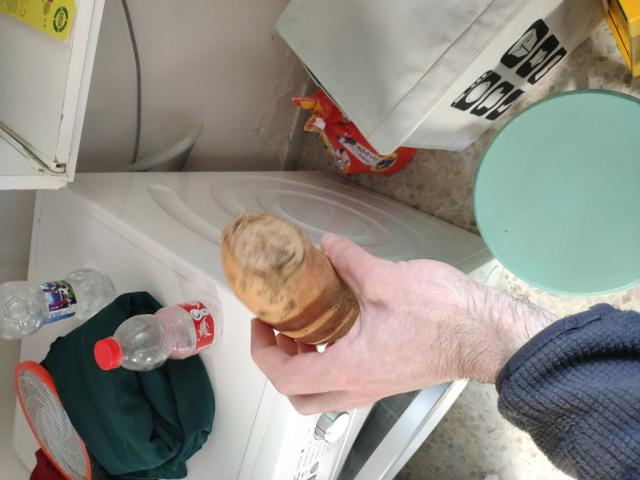sweet_potato: (224, 221, 366, 344)
